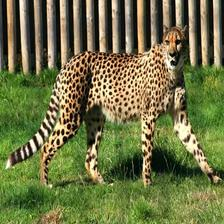Cheetah: (6, 24, 224, 194)
